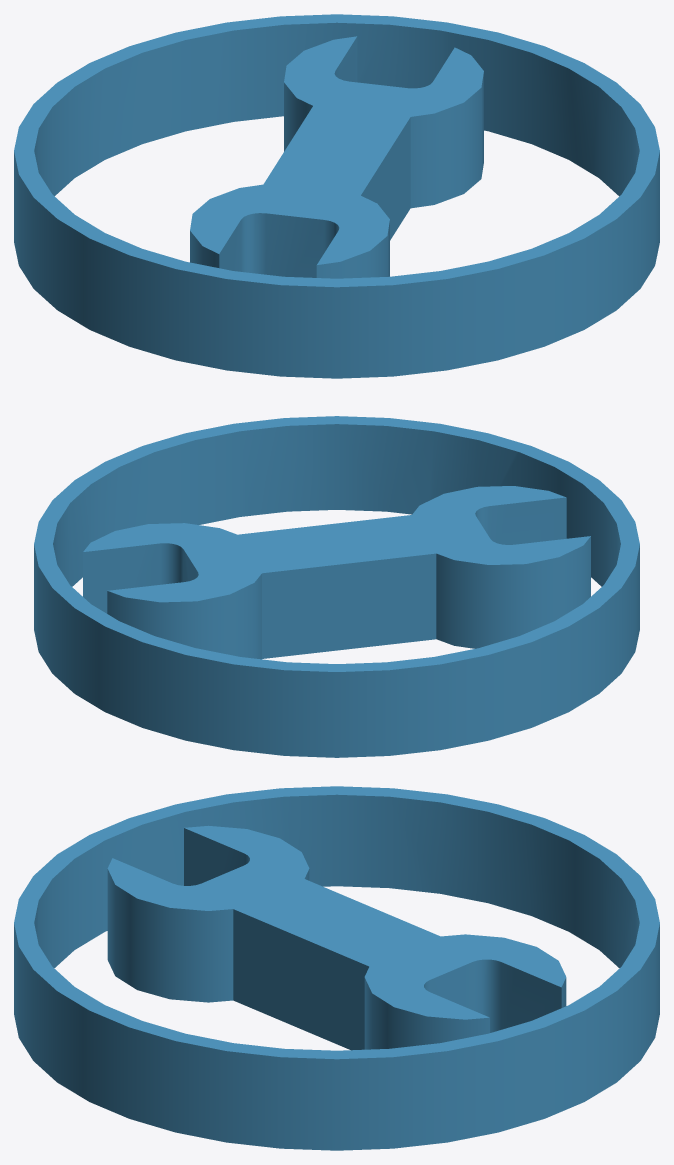
File: Repair_Prefab.fbx
The picture shows the model from 3 angles, top to bottom: view 1: azimuth 30°, elevation 25°; view 2: azimuth 150°, elevation 25°; view 3: azimuth 270°, elevation 25°; orthographic projection. The views are drawn at different scales.
Parts seen in each view (by area): view 1: Boole_2; view 2: Boole_2; view 3: Boole_2.
Part boxes in pixels (bbox=[...]): Boole_2: bbox=[14, 14, 659, 378]; Boole_2: bbox=[34, 416, 639, 757]; Boole_2: bbox=[14, 786, 659, 1150].
Bounding box in the file's own units: 160 × 25 × 160.
